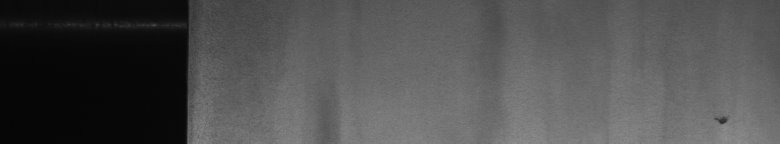fi: (713, 109, 731, 132)
